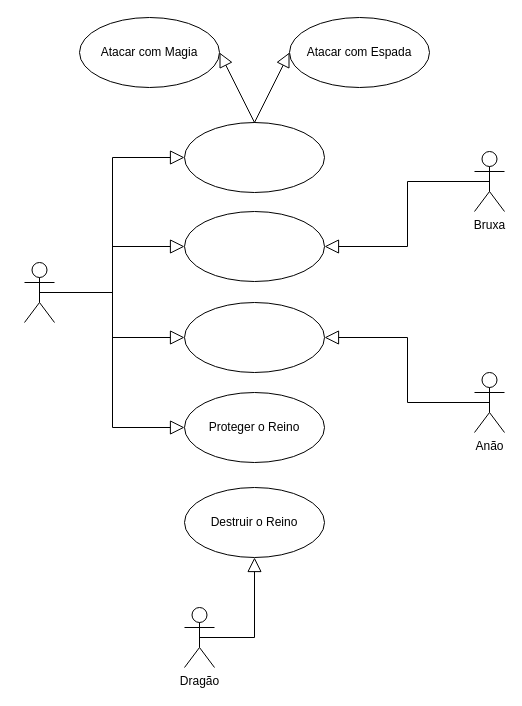
This 522x706 diagram has some shape labels left out. Each missing label, with the centre of its shape:
"Atacar o Dragão" goes at pixel 254 157.
"Explorar o Castelo" goes at pixel 254 337.
"Preparar Poções" goes at pixel 254 246.
"Príncipe" goes at pixel 39 292.
